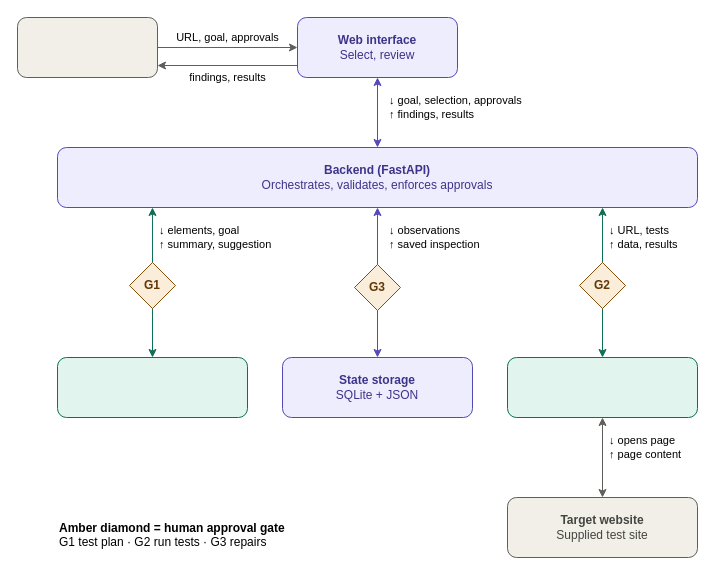
Some shapes in this 715 by 582 pixel diagram are drawn without their labels. The shapes that lost their labels are listed below. From the top down, each one's box as (x1, y1, x2, y2) in pixels, then its label:
(16, 16, 158, 78): Tester Goal, approvals
(56, 356, 248, 418): Local model Ollama, Qwen 7B
(506, 356, 698, 418): Isolated runner Playwright browser
